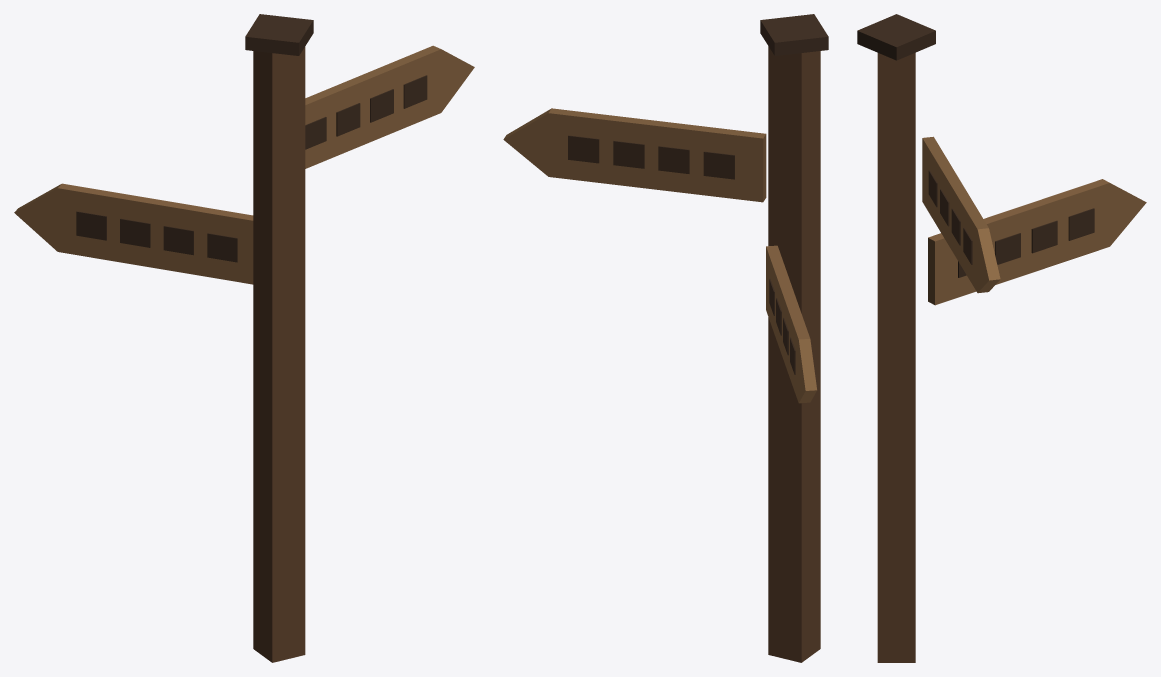
The model's file is signpost.glb.
3 views of the same model, side by side, from view 1: azimuth 30°, elevation 25°; view 2: azimuth 150°, elevation 25°; view 3: azimuth 270°, elevation 25° (orthographic).
Visible parts, largest first — view 1: signpost; view 2: signpost; view 3: signpost.
Boxes of the visible parts, x1=… form: signpost: x1=14, y1=14, x2=474, y2=662; signpost: x1=503, y1=14, x2=828, y2=662; signpost: x1=857, y1=14, x2=1146, y2=662.
Bounding box in the file's own units: 1.52 × 2.35 × 0.9861.
